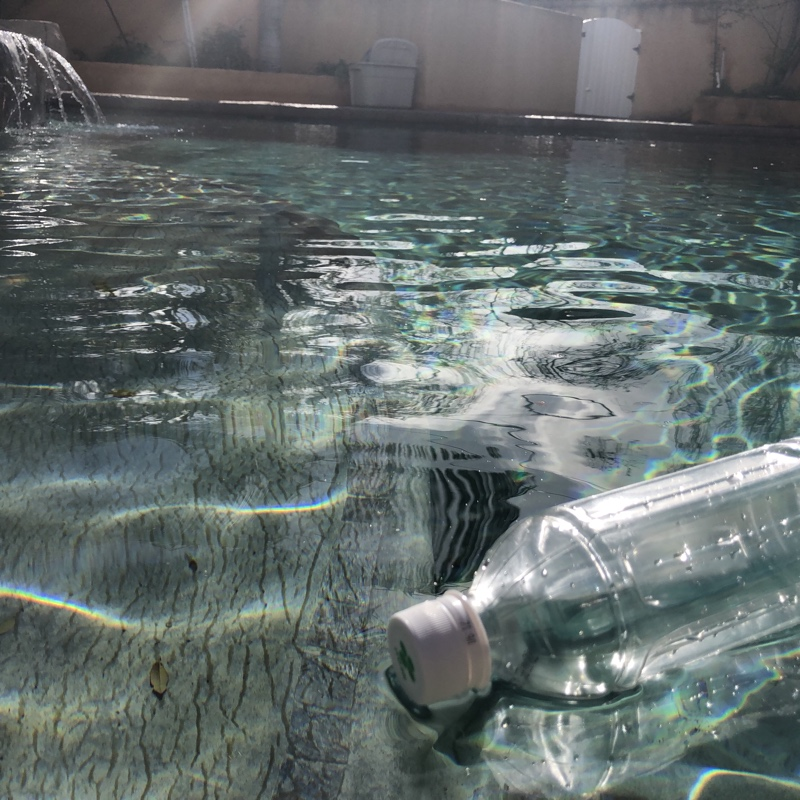Plastic Bottle: (378, 420, 800, 727)
